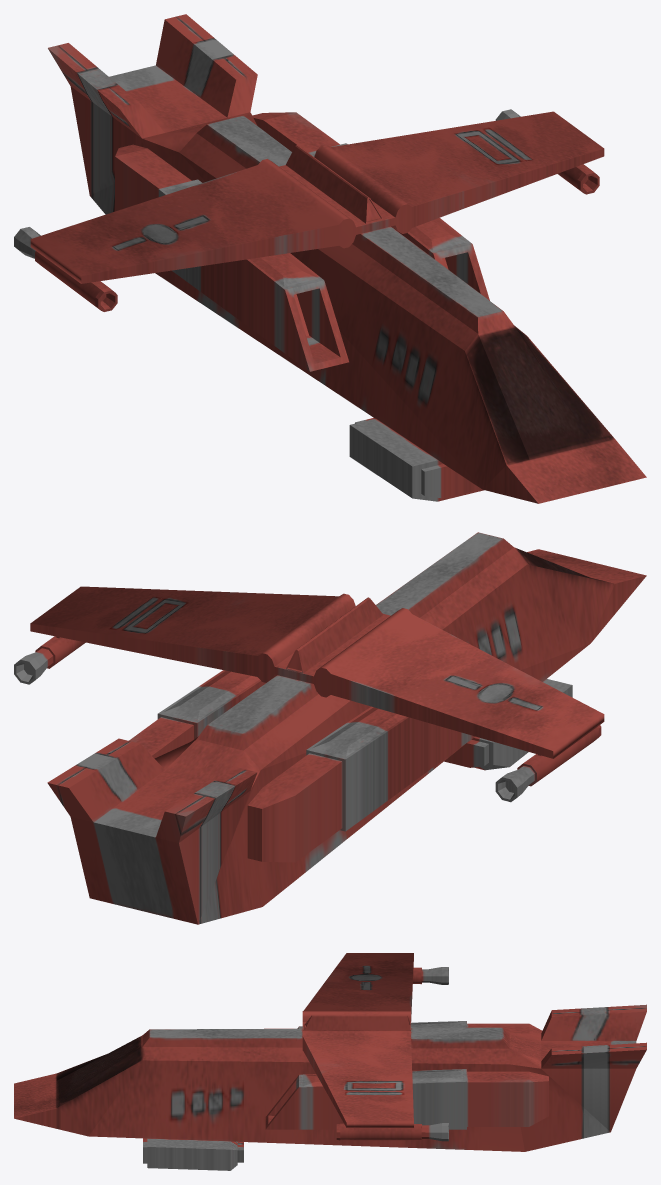
Rendered from ARTILLERY.FBX.
The picture shows the model from 3 angles, top to bottom: view 1: azimuth 30°, elevation 25°; view 2: azimuth 150°, elevation 25°; view 3: azimuth 270°, elevation 25°; orthographic projection. The views are drawn at different scales.
Parts seen in each view (by area): view 1: artillery:Box001; view 2: artillery:Box001; view 3: artillery:Box001.
Boxes of the visible parts, <box> form: artillery:Box001: <box>14,14,646,503</box>; artillery:Box001: <box>14,532,646,924</box>; artillery:Box001: <box>14,953,646,1170</box>.
Bounding box in the file's own units: 569 × 212 × 896.
1 material, 1 textured.
